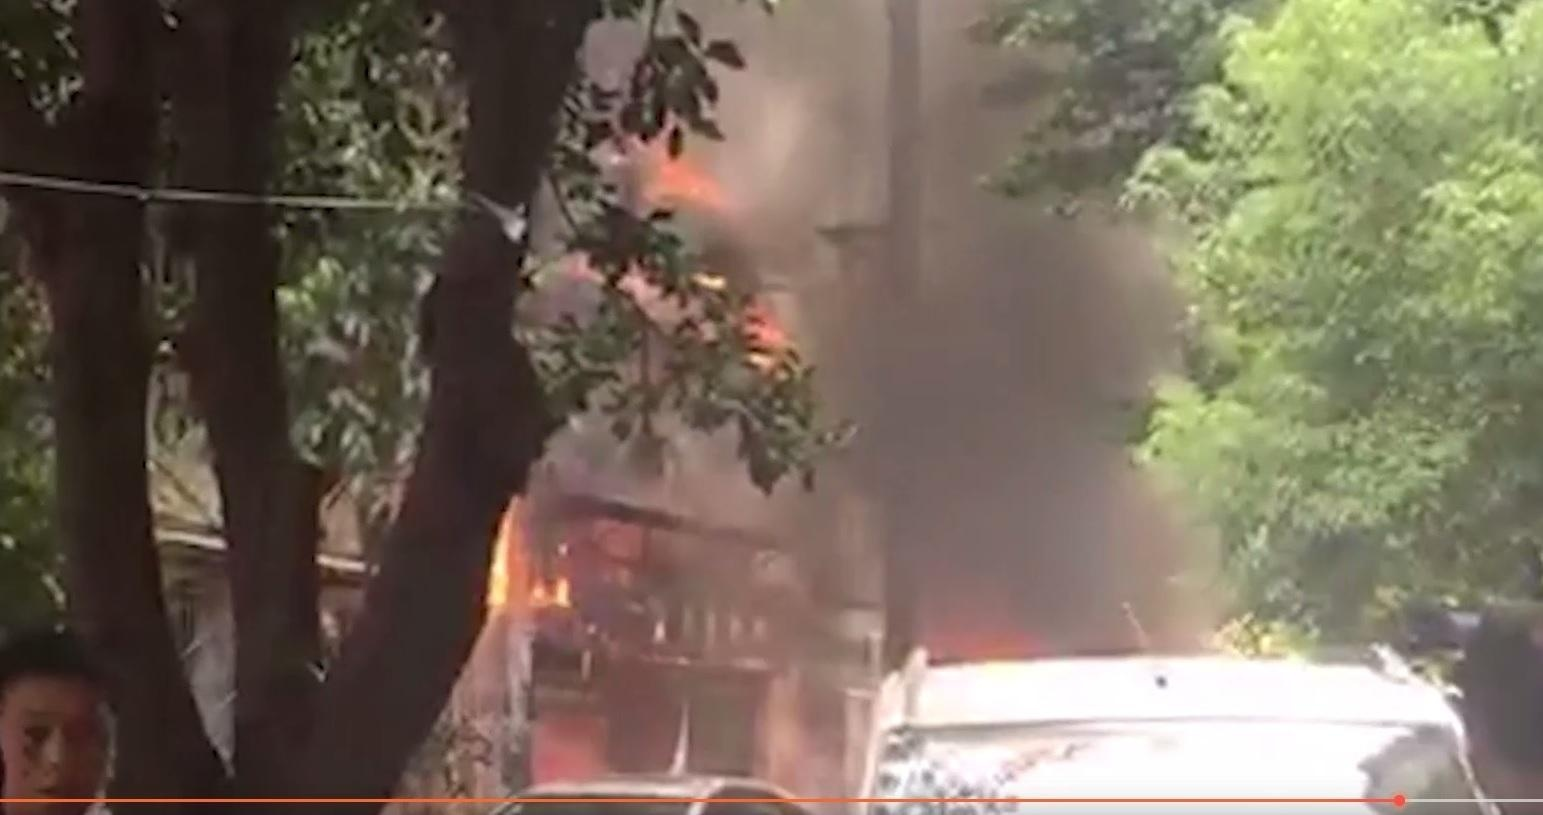fire: (478, 514, 571, 612)
